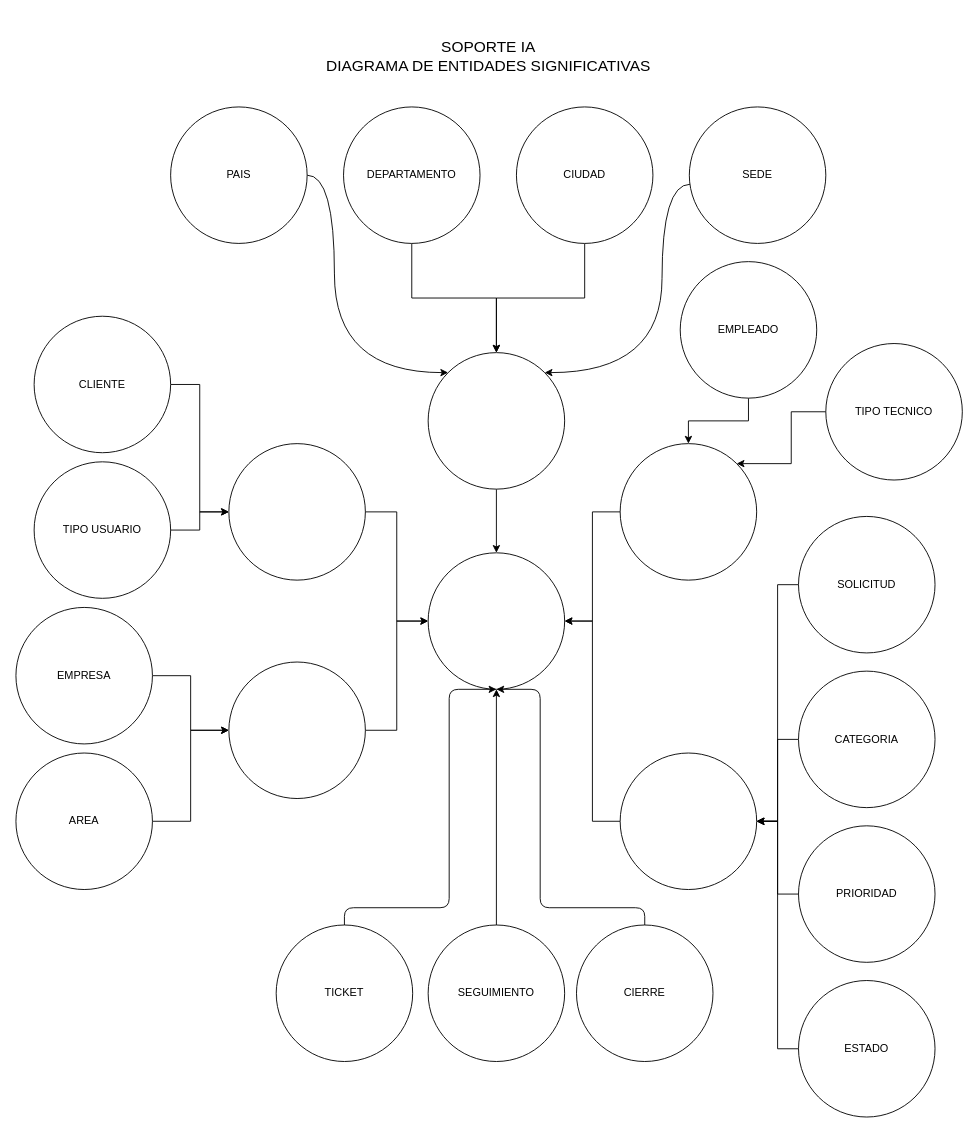
Some shapes in this 978 by 1133 pixel diagram are drawn without their labels. Each missing label, with the centre of its shape:
"GEOGRAFIA" belongs at [496,420].
"ORGANIZACION" belongs at [296,730].
"PRODUCTO/SERVICIO" belongs at [688,821].
"TECNICO" belongs at [688,511].
"TRANSACCION" belongs at [496,620].
"USUARIO" belongs at [296,511].
